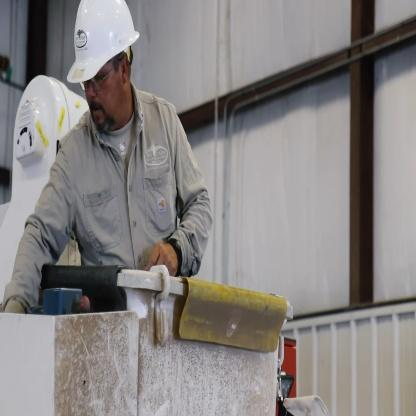helmet: (65, 0, 153, 133)
